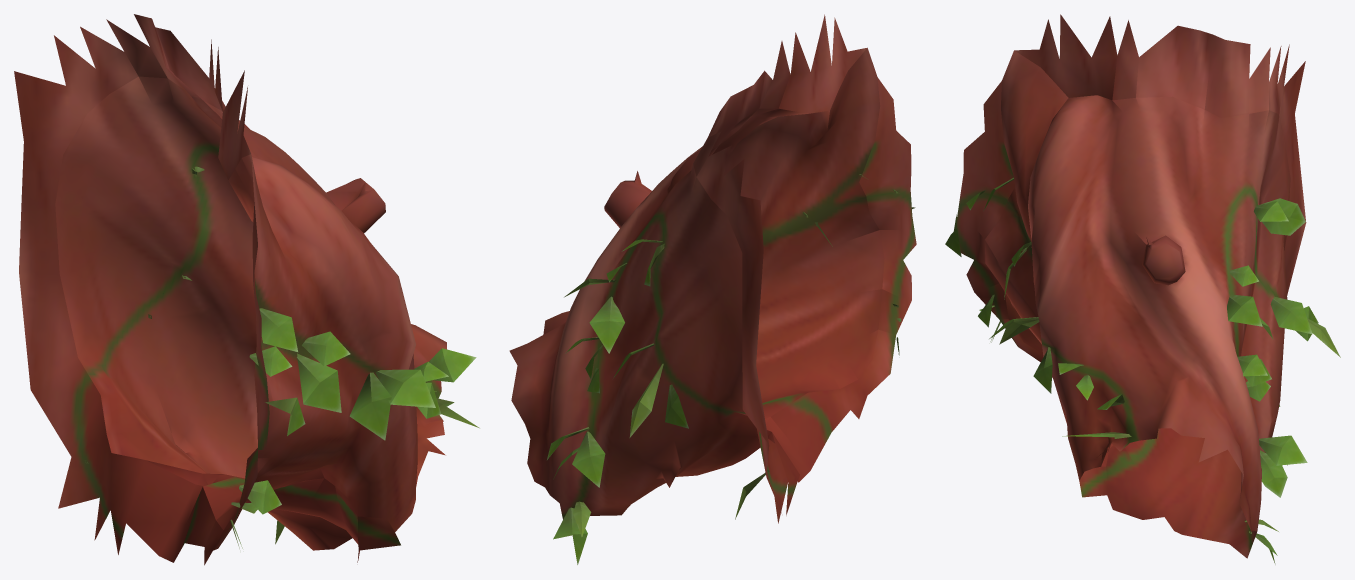
Rendered from torchwood_brazo_izq.obj.
3 renders of one model, left to right at view 1: azimuth 30°, elevation 25°; view 2: azimuth 150°, elevation 25°; view 3: azimuth 270°, elevation 25°, orthographic. The views are drawn at different scales.
Parts seen in each view (by area): view 1: torchwood_brazo_izq; view 2: torchwood_brazo_izq; view 3: torchwood_brazo_izq.
Boxes of the visible parts, <box> form: torchwood_brazo_izq: <box>14,14,479,565</box>; torchwood_brazo_izq: <box>509,14,916,564</box>; torchwood_brazo_izq: <box>945,14,1340,564</box>.
Bounding box in the file's own units: 0.6027 × 0.9464 × 0.6961.
